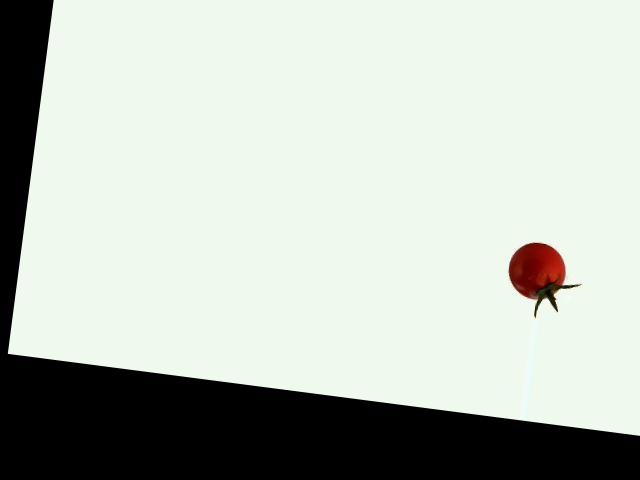tomato: (504, 238, 567, 302)
